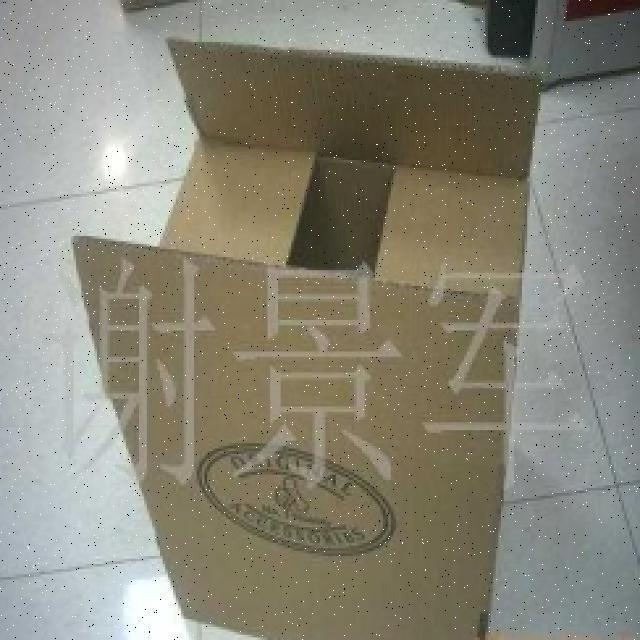box: (84, 52, 546, 640)
